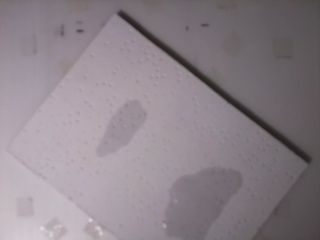Water_detected: (177, 176, 231, 232), (102, 103, 143, 157)
